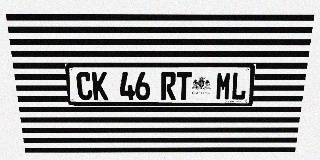4: (119, 72, 135, 100)
6: (135, 72, 150, 100)
C: (76, 72, 93, 100)
K: (92, 72, 108, 100)
L: (230, 72, 247, 100)
M: (215, 72, 232, 100)
R: (161, 72, 176, 100)
T: (176, 72, 192, 100)
